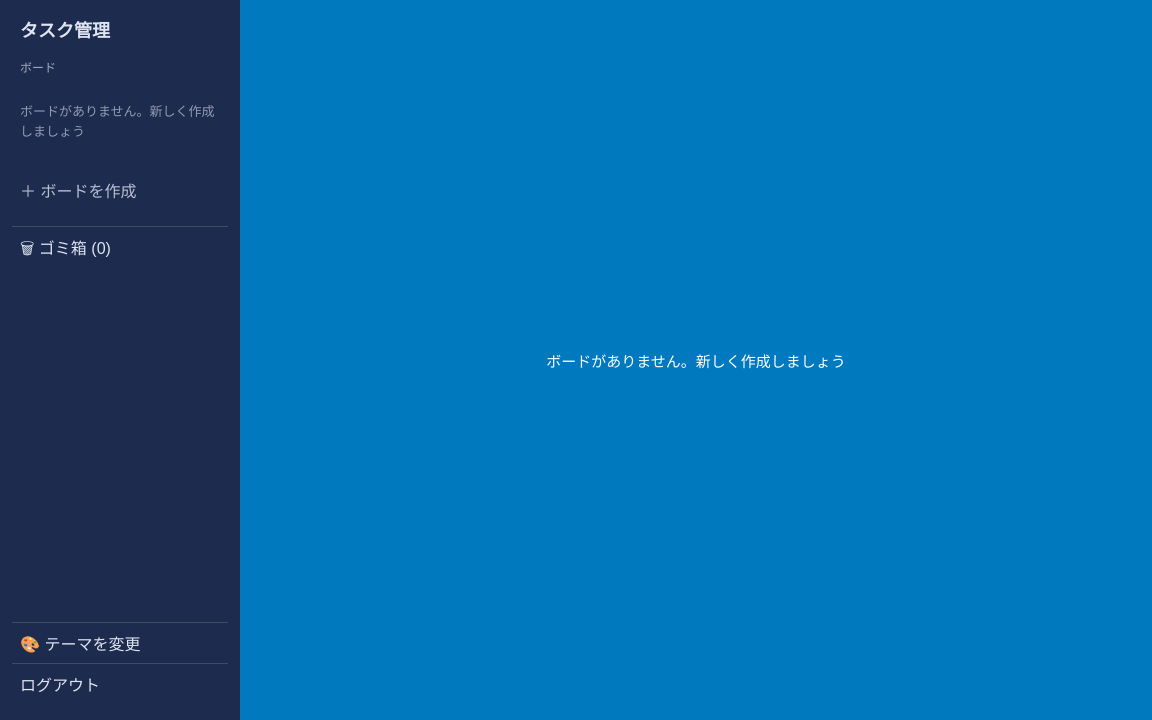
Test: テーマ変更パネル › 保存済みのカスタムカラーがあれば、それを初期値にする
Click the button "🎨 テーマを変更".
click(120, 642)  # box [12,622,228,663]
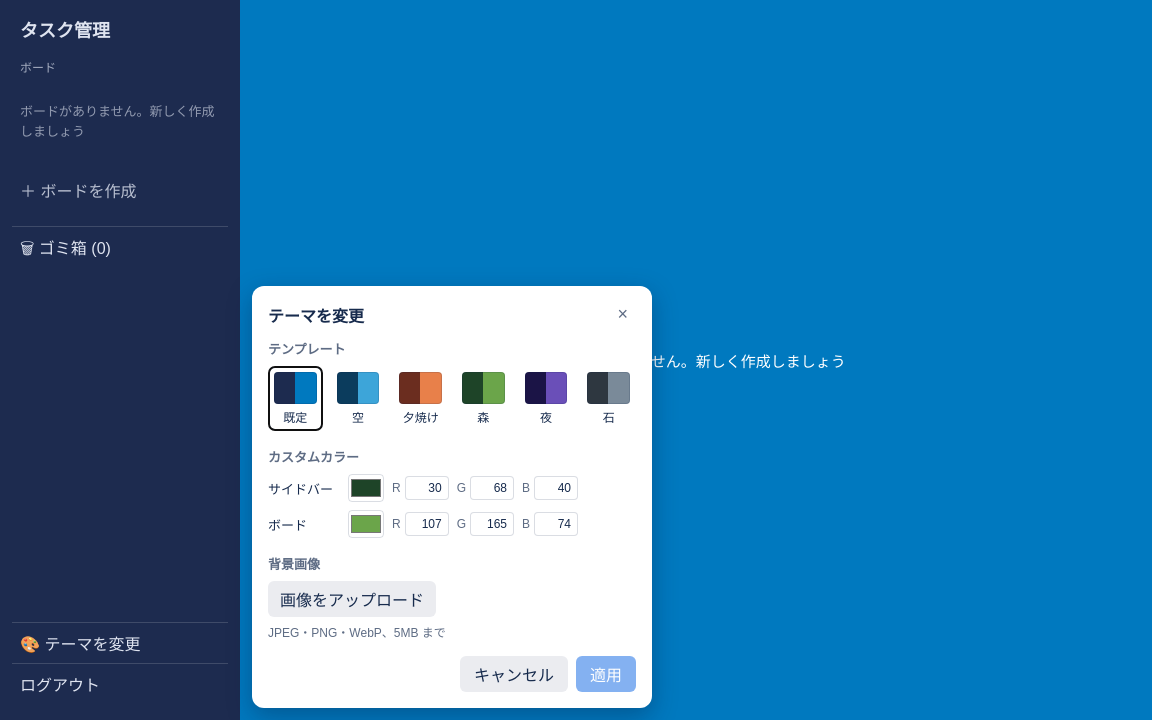
Result: the field named "サイドバーのR" holds "30" at [405,476,449,500]
Result: the field named "ボードのG" holds "165" at [470,512,514,536]
